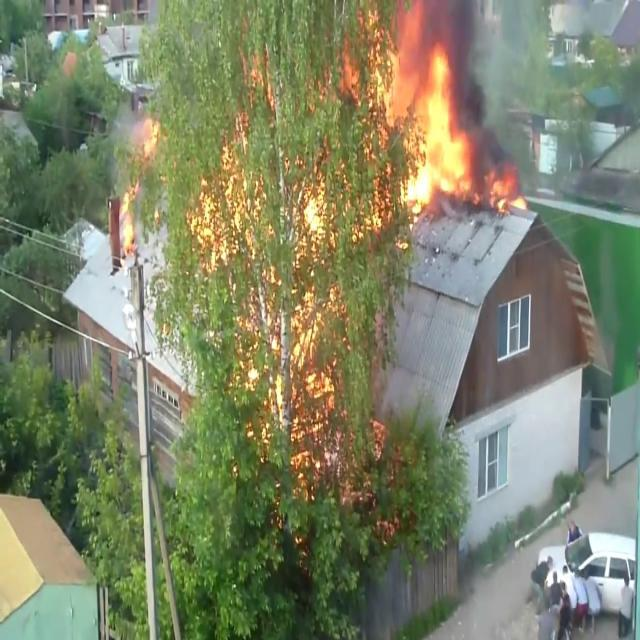Fire: (351, 4, 474, 218), (116, 114, 159, 260), (486, 164, 528, 216)
